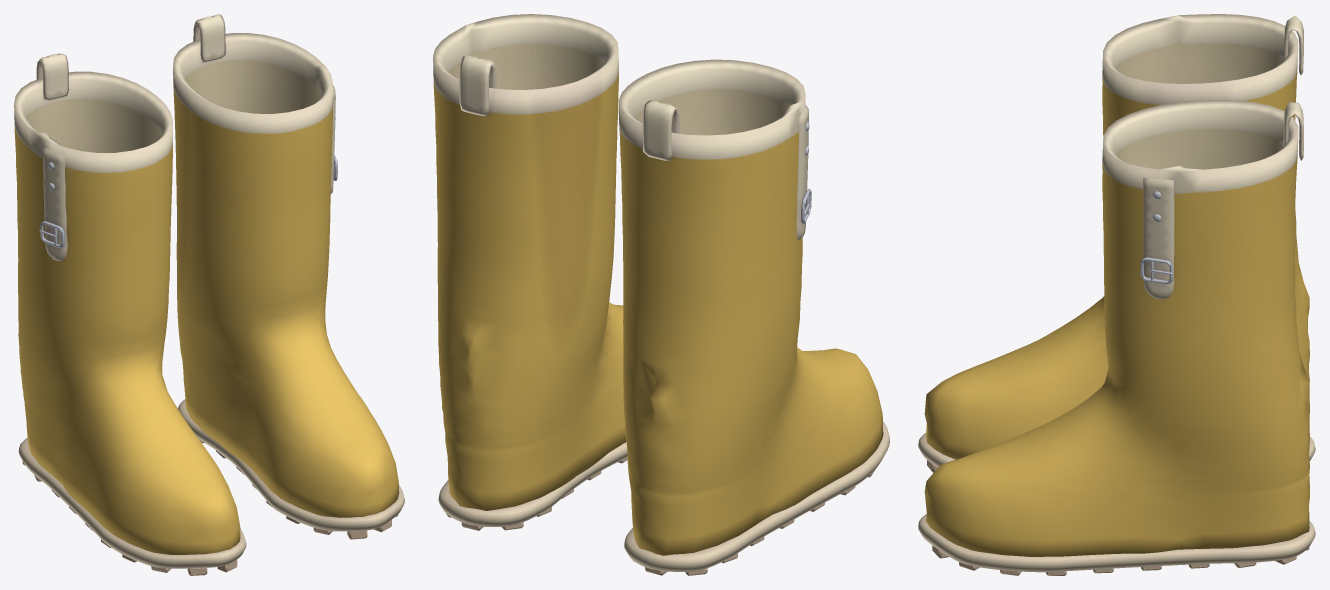
File: zapatos_m4.glb
3 views of the same model, side by side, from view 1: azimuth 30°, elevation 25°; view 2: azimuth 150°, elevation 25°; view 3: azimuth 270°, elevation 25° (orthographic). The views are drawn at different scales.
Parts seen in each view (by area): view 1: rain-boots_body; view 2: rain-boots_body; view 3: rain-boots_body.
Part boxes in pixels (<box>): rain-boots_body: <box>14,14,404,575</box>; rain-boots_body: <box>433,14,889,575</box>; rain-boots_body: <box>918,14,1315,575</box>.
Size of the model in its own units: 0.283 by 0.3676 by 0.3.
Materials: 1 (1 with a texture image).
